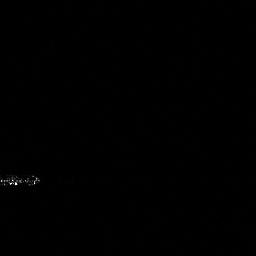ship: (1, 173, 41, 190)
